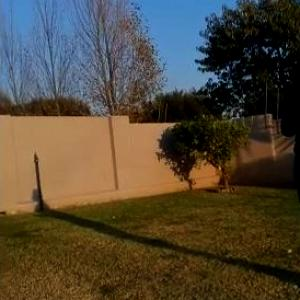follow: (273, 21, 300, 299)
